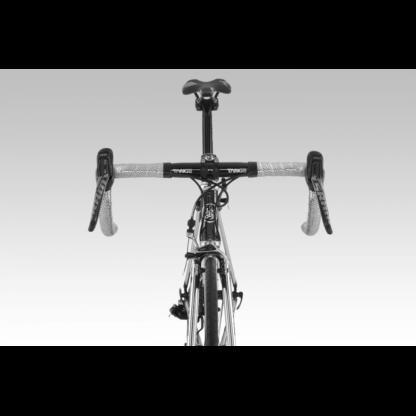Bicycle: (57, 67, 377, 348)
